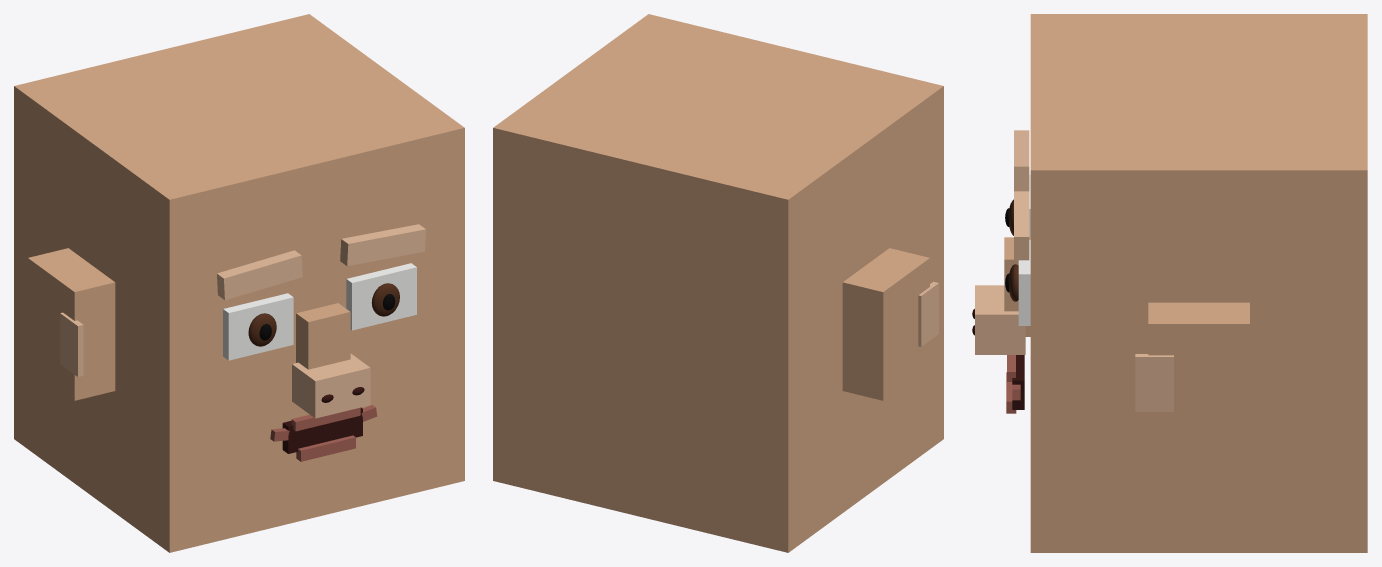
Rendered from skomma_head7.glb.
3 views of the same model, side by side, from view 1: azimuth 30°, elevation 25°; view 2: azimuth 150°, elevation 25°; view 3: azimuth 270°, elevation 25° (orthographic). The views are drawn at different scales.
Visible parts, largest first — view 1: Head, Left_Ear, Nose_Tip, Nose_Bridge, Left_Eye, Right_Eye, Left_Eyebrow, Right_Eyebrow, Mouth, Left_InnerEar, Lower_Lip, Upper_Lip (+2 smaller); view 2: Head, Left_Ear, Left_InnerEar; view 3: Head, Right_Ear, Nose_Tip, Right_InnerEar, Right_Eyebrow, Left_Eyebrow, Right_Eye, Nose_Bridge, Mouth.
Boxes of the visible parts, x1,y1,x2,y2 form: Head: (14,14,464,552); Left_Ear: (28,248,115,400); Nose_Tip: (292,353,370,418); Nose_Bridge: (296,303,350,369); Left_Eye: (223,293,293,360); Right_Eye: (346,263,416,330); Left_Eyebrow: (217,250,302,300); Right_Eyebrow: (340,224,425,266); Mouth: (282,407,362,453); Left_InnerEar: (60,312,83,376); Lower_Lip: (296,435,355,461); Upper_Lip: (291,407,360,431); Head: (493,14,943,552); Left_Ear: (842,248,929,400); Left_InnerEar: (918,281,938,346); Head: (1030,14,1367,552); Right_Ear: (1148,302,1249,441); Nose_Tip: (975,285,1025,354); Right_InnerEar: (1135,354,1173,411); Right_Eyebrow: (1014,191,1029,260); Left_Eyebrow: (1014,130,1029,191); Right_Eye: (1018,240,1030,325); Nose_Bridge: (1004,237,1030,336); Mouth: (1012,355,1024,409).
Bounding box in the file's own units: 2.35 × 2.08 × 1.95.
